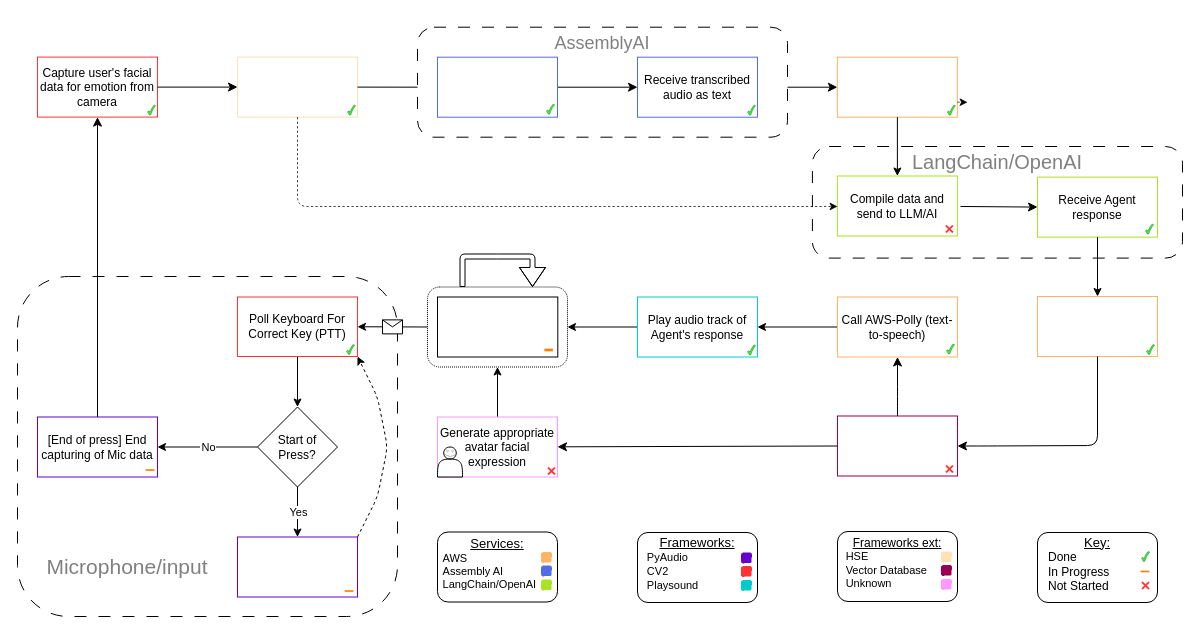
Image size: 1200x634. Some labels were removed from this diagram. Here are the shapes that lost their labels. From the top down, the centre of each, then its label:
At (297,86): "Gauge user's facial expression/emotion".
At (497,86): "Send audio to AssemblyAI (speech-to-text)".
At (896,86): "Run sentiment analysis on text using AWS comprehend".
At (497,326): "Main Program Loop".
At (1097,326): "Semantically analyse tone using AWS comprehend".
At (897,445): "Store response and metadata".
At (297,566): "Start capturing microphone data".
